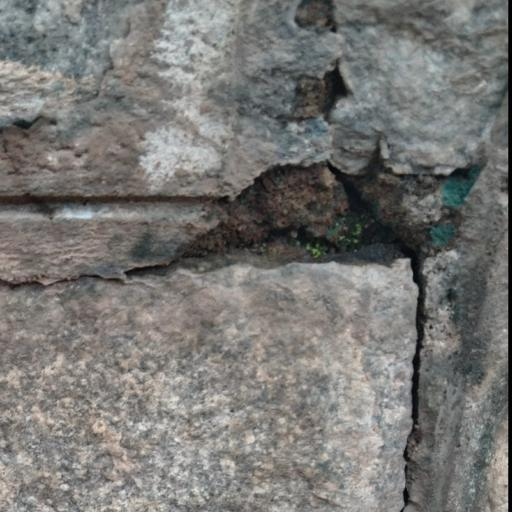major_crack: (3, 123, 433, 512)
